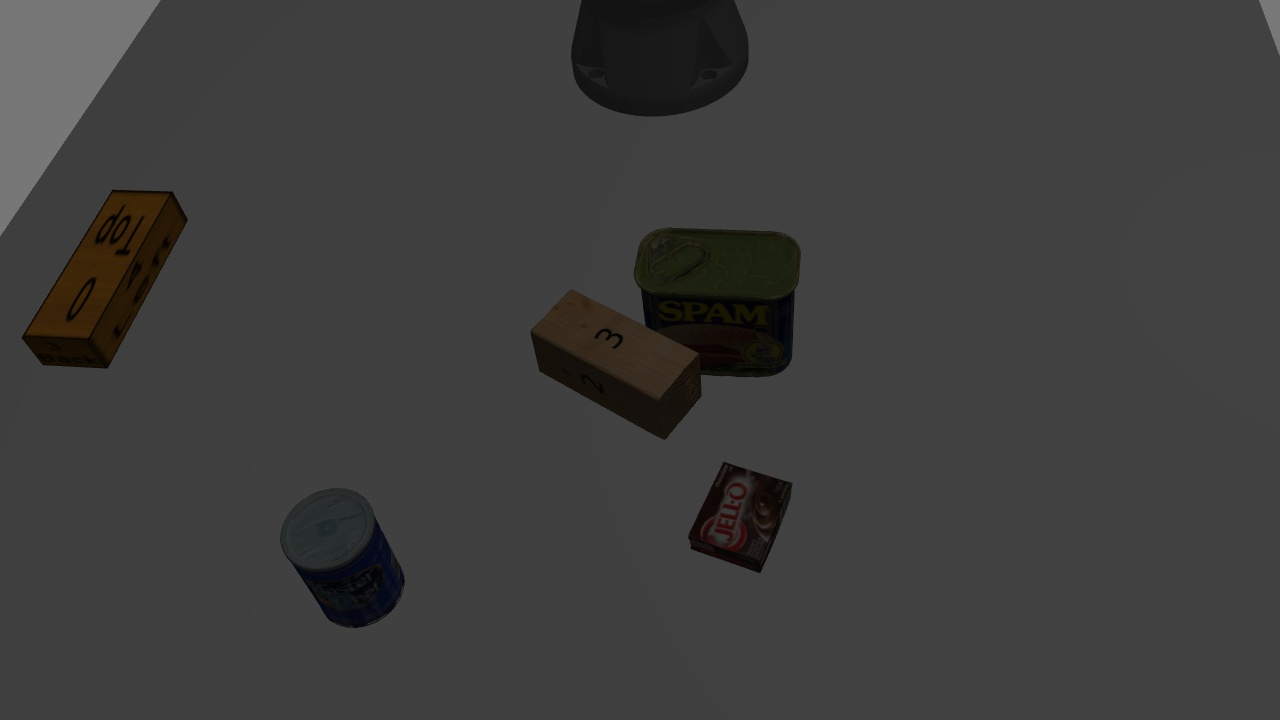jenga: (21, 184, 189, 370)
master_chef_can: (277, 486, 411, 631)
potted_meat_can: (629, 224, 800, 389)
pudding_box: (678, 458, 793, 573)
wood_block: (528, 273, 707, 440)
